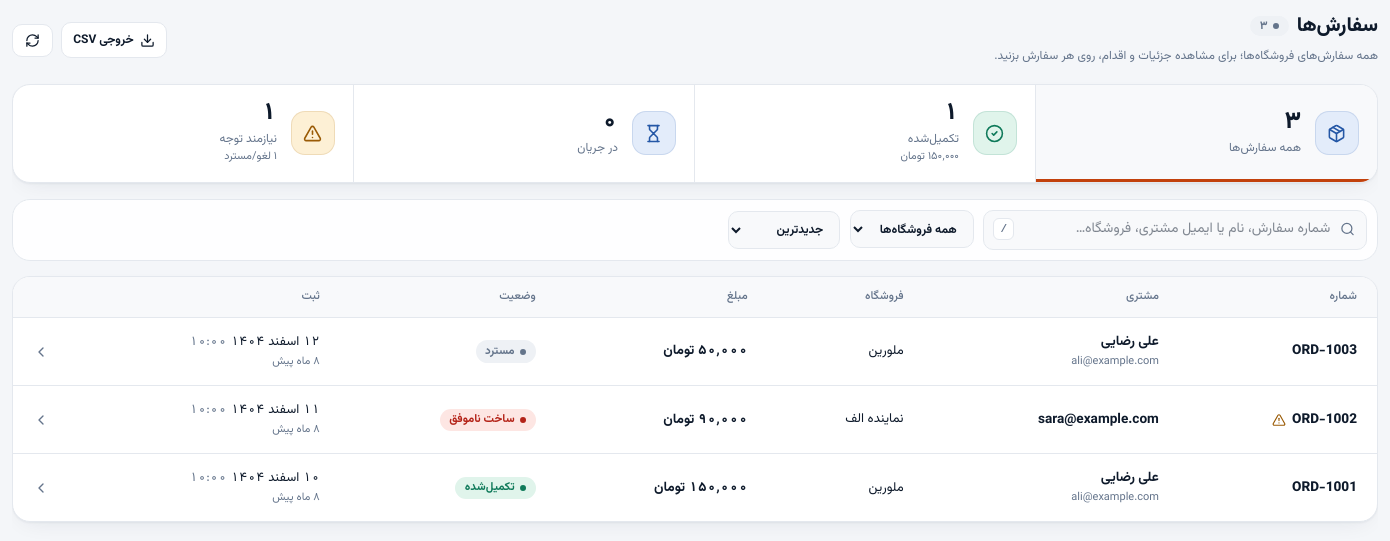
orders screen › searches by order number
Expected: the text "ORD-1001" is shown, x1=1292 y1=478 x2=1357 y2=498
Type "1003" into the field named "جستجوی سفارش" at (1175, 229), box x1=983 y1=209 x2=1367 y2=250
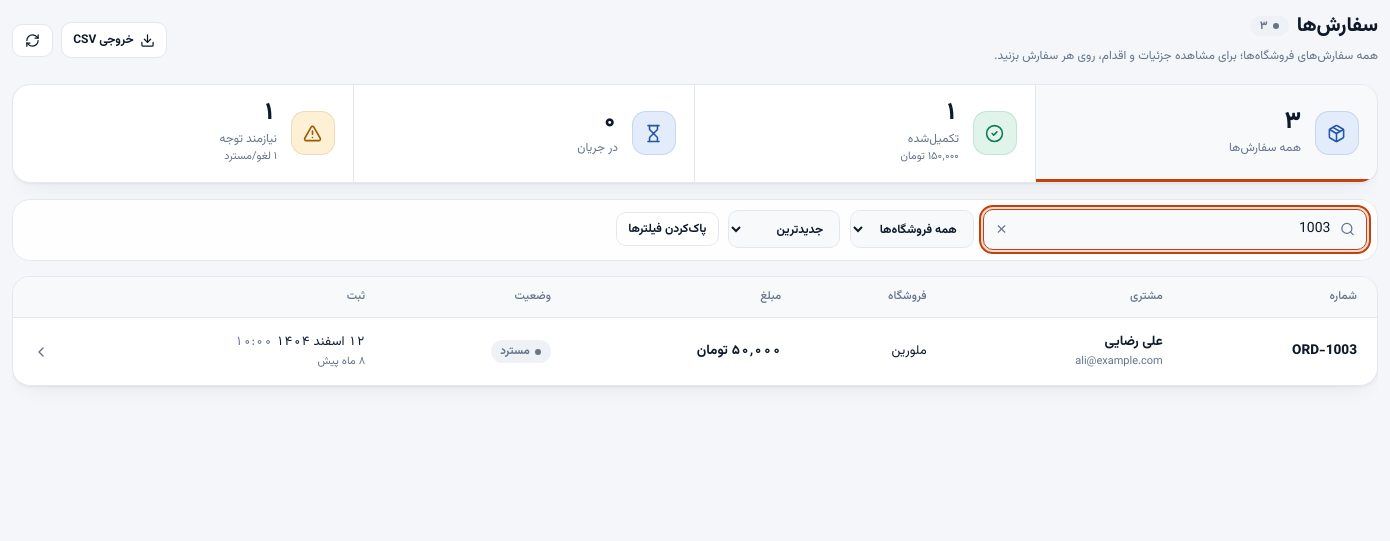
Expected: the text "ORD-1003" is shown, x1=1292 y1=341 x2=1357 y2=362
Expected: the text "ORD-1001" is gone
